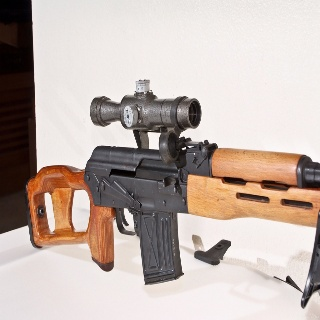rifle: (23, 76, 320, 289)
